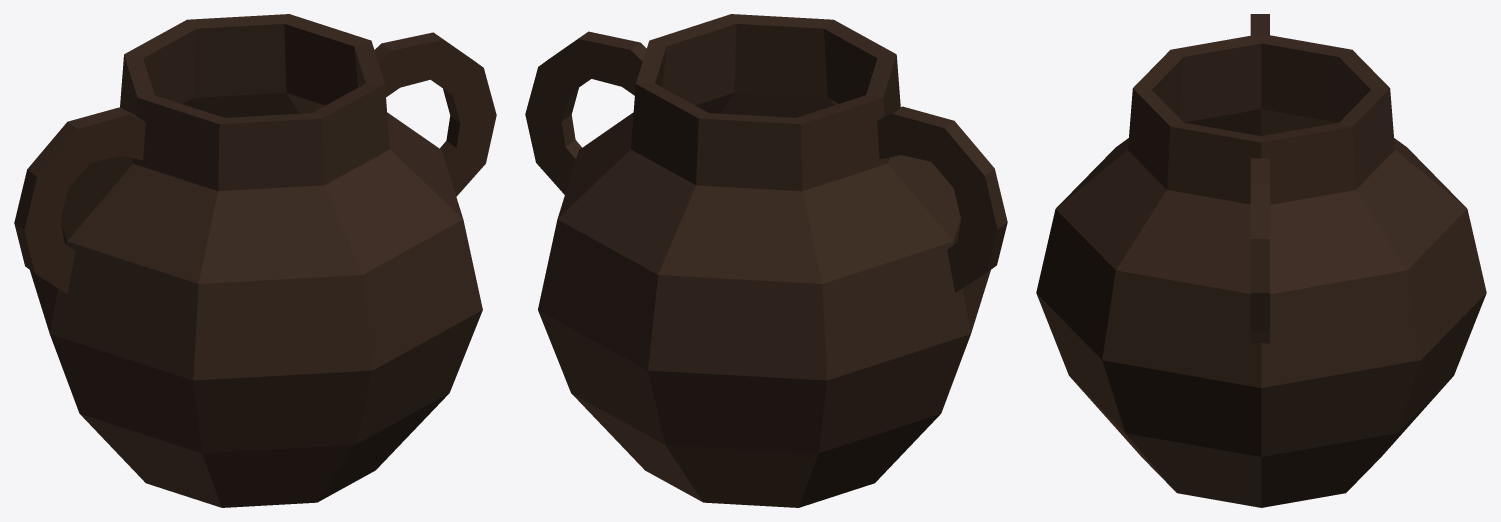
File: pot_01.glb
The picture shows the model from 3 angles, left to right: view 1: azimuth 30°, elevation 25°; view 2: azimuth 150°, elevation 25°; view 3: azimuth 270°, elevation 25°; orthographic projection. The views are drawn at different scales.
Visible parts, largest first — view 1: Pot_01; view 2: Pot_01; view 3: Pot_01.
Part boxes in pixels (left/top/right/bottom): Pot_01: left=14, top=14, right=496, bottom=507; Pot_01: left=525, top=14, right=1007, bottom=507; Pot_01: left=1036, top=14, right=1486, bottom=507.
Size of the model in its own units: 0.3427 by 0.2687 by 0.2972.
Materials: 1 (1 with a texture image).
